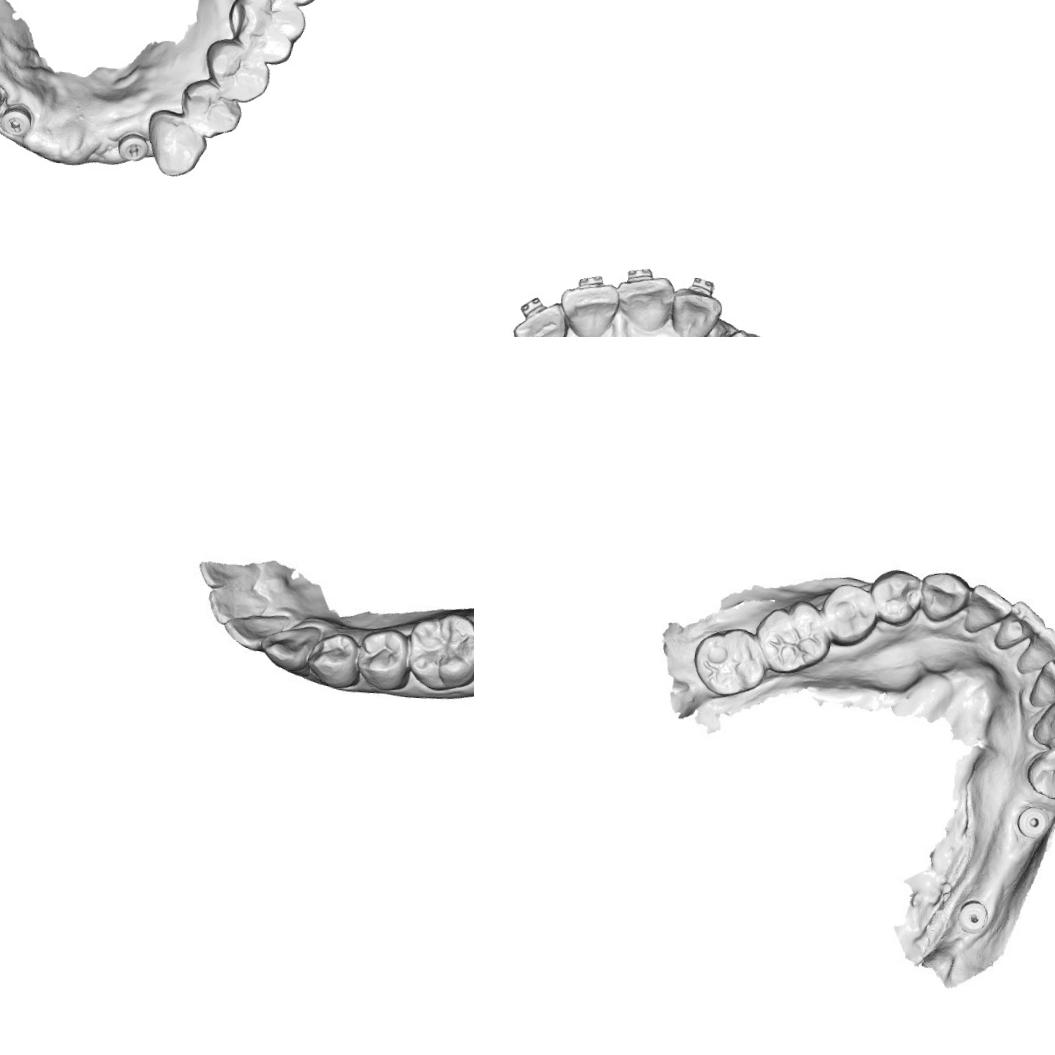canine: (141, 105, 208, 182), (260, 619, 318, 676), (915, 570, 969, 622), (1028, 698, 1055, 750)
crown: (710, 323, 759, 337)
implant: (1014, 802, 1051, 838), (957, 896, 990, 934)
implant_minus: (115, 122, 160, 171), (2, 97, 40, 140)
incisor: (610, 271, 678, 336), (552, 278, 623, 337), (666, 280, 726, 337), (222, 612, 290, 652), (508, 296, 574, 337), (206, 584, 269, 625), (964, 583, 1014, 634), (1020, 621, 1055, 671), (998, 603, 1040, 644), (1031, 661, 1055, 708)
molar: (220, 0, 309, 69), (405, 610, 474, 693), (692, 626, 766, 698), (756, 599, 830, 670)
premolar: (199, 35, 272, 106), (176, 75, 244, 142), (356, 624, 411, 689), (869, 568, 925, 628), (306, 632, 364, 689), (824, 580, 875, 644), (1024, 744, 1055, 803)
